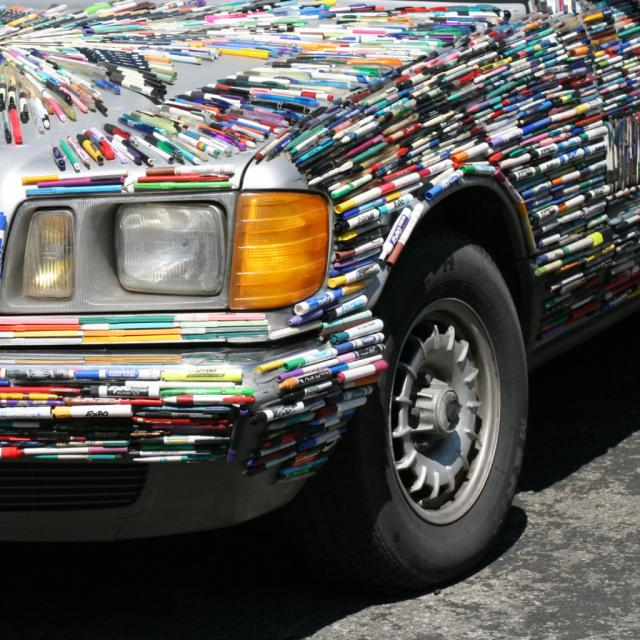pen: (0, 0, 639, 481)
